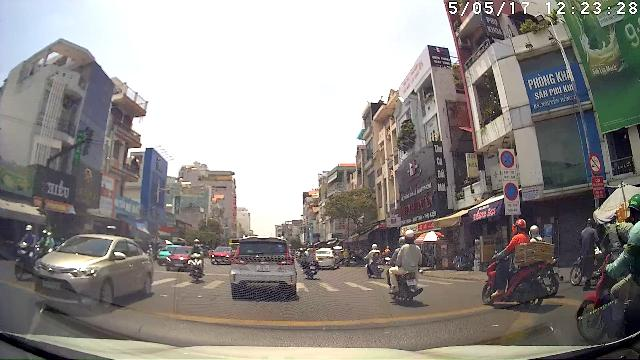130-cam-dung-va-do-xe: (500, 150, 514, 168)
131a-cam-do-xe: (504, 182, 518, 200)
